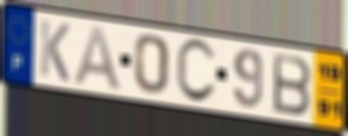0: (132, 33, 172, 98)
9: (231, 47, 265, 112)
A: (71, 23, 125, 94)
B: (270, 51, 313, 118)
C: (174, 37, 219, 106)
K: (38, 16, 72, 84)
